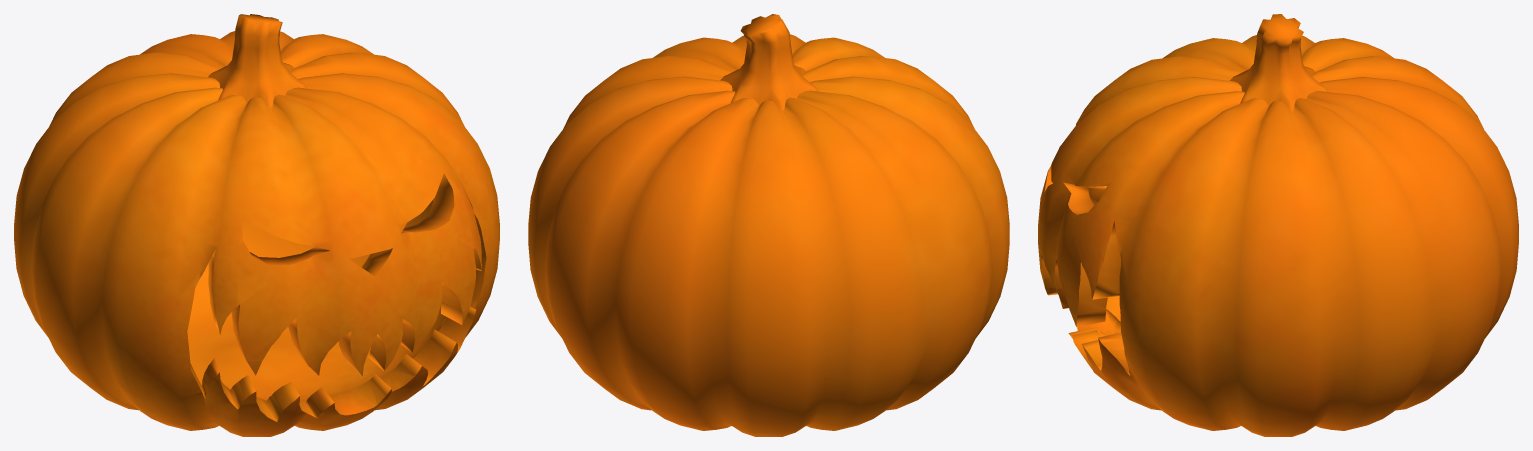
The model's file is Halloween_Pumpkin.obj.
3 views of the same model, side by side, from view 1: azimuth 30°, elevation 25°; view 2: azimuth 150°, elevation 25°; view 3: azimuth 270°, elevation 25° (orthographic).
Parts seen in each view (by area): view 1: Halloween_Pumpkin; view 2: Halloween_Pumpkin; view 3: Halloween_Pumpkin.
Part boxes in pixels (x1,y1,x2,y2): Halloween_Pumpkin: (14,14,499,436); Halloween_Pumpkin: (528,14,1009,436); Halloween_Pumpkin: (1038,14,1518,436).
Bounding box in the file's own units: 0.5874 × 0.4958 × 0.5874.
